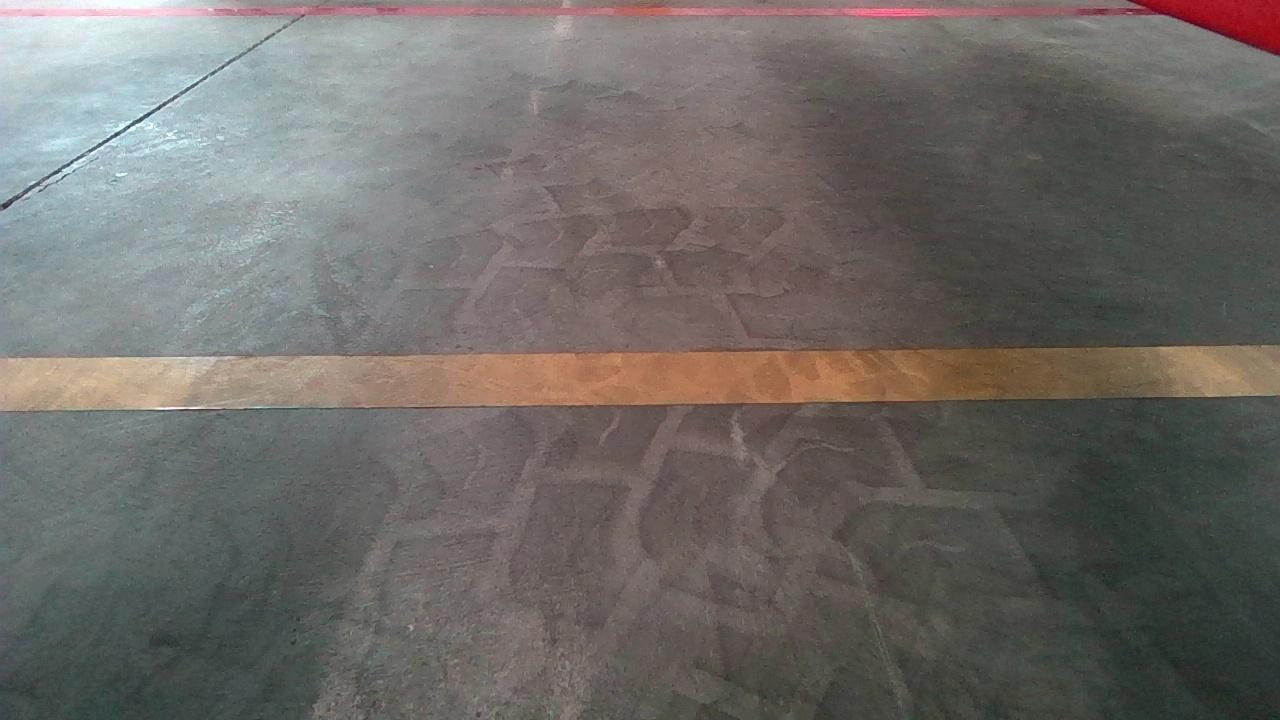yellow_line: (11, 341, 1280, 408)
